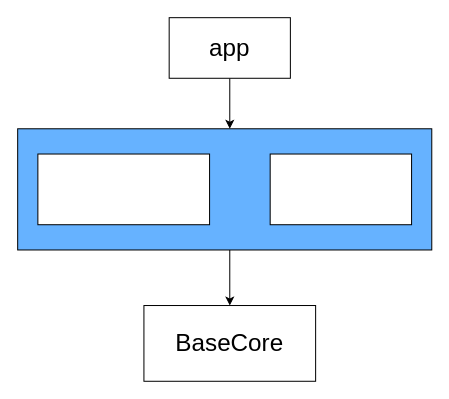
The diagram is 449 pixels wide and 399 high, and some of its shapes have lost their labels. Here are the shapes that lost their labels. From the top down, the box of each, then its label:
(37, 153, 210, 225): LocalClient
(269, 153, 412, 225): Widget
